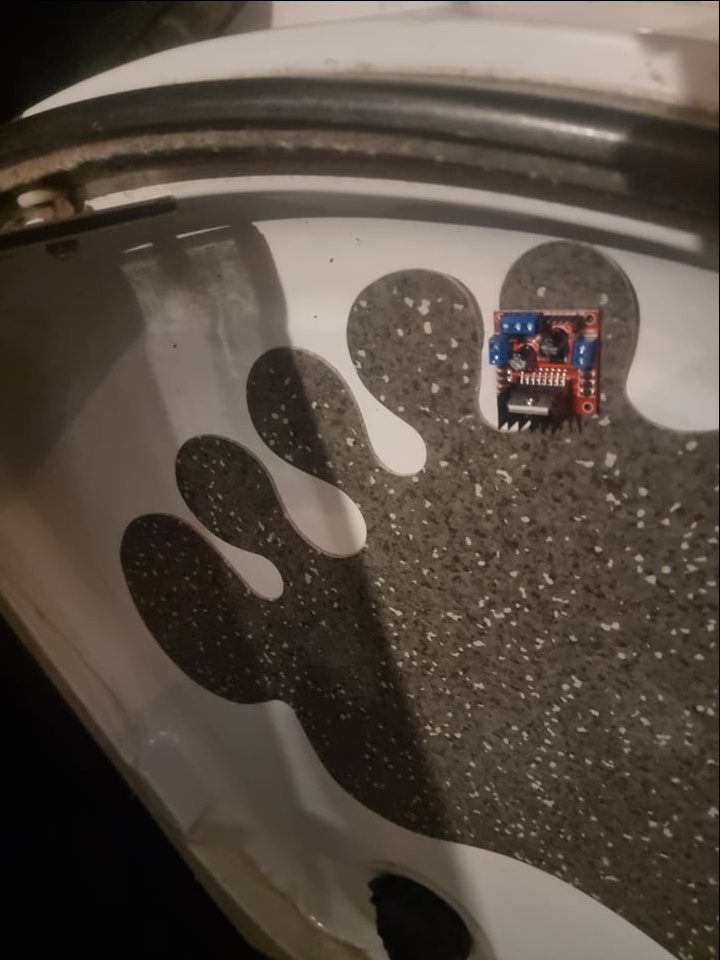MOTOR: (486, 308, 606, 428)
